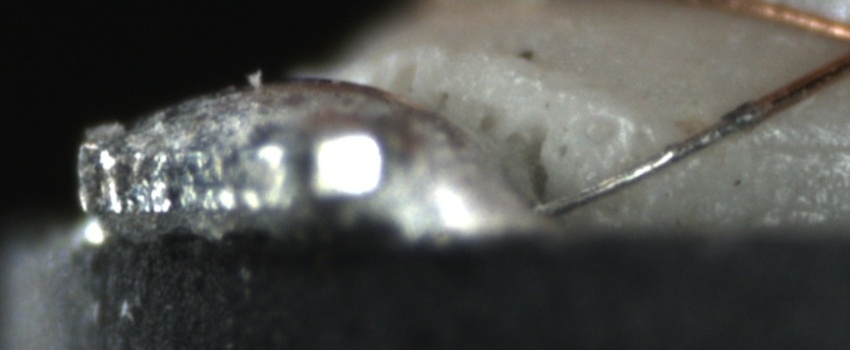DL: (760, 111, 849, 173)
TS: (542, 101, 768, 215)
